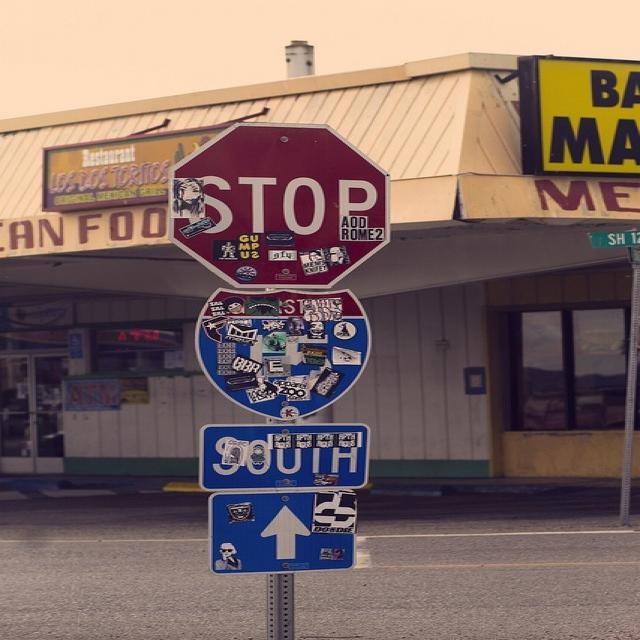pole: (260, 412, 308, 639)
